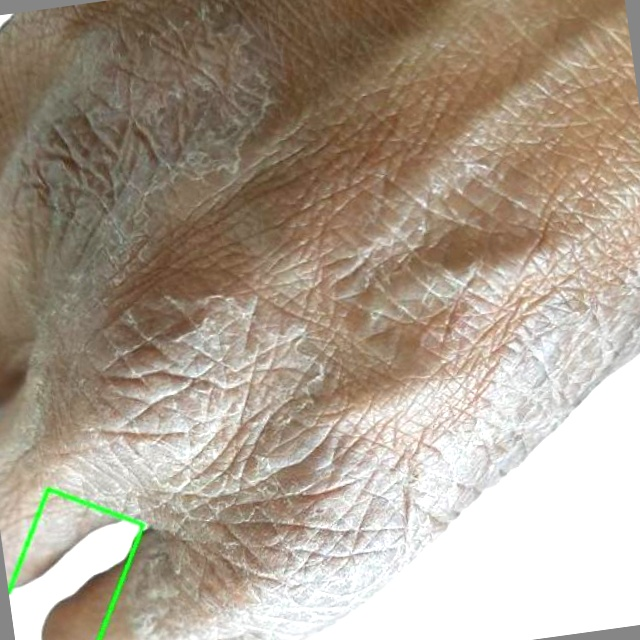Contact Dermatitis: (27, 487, 147, 639)
